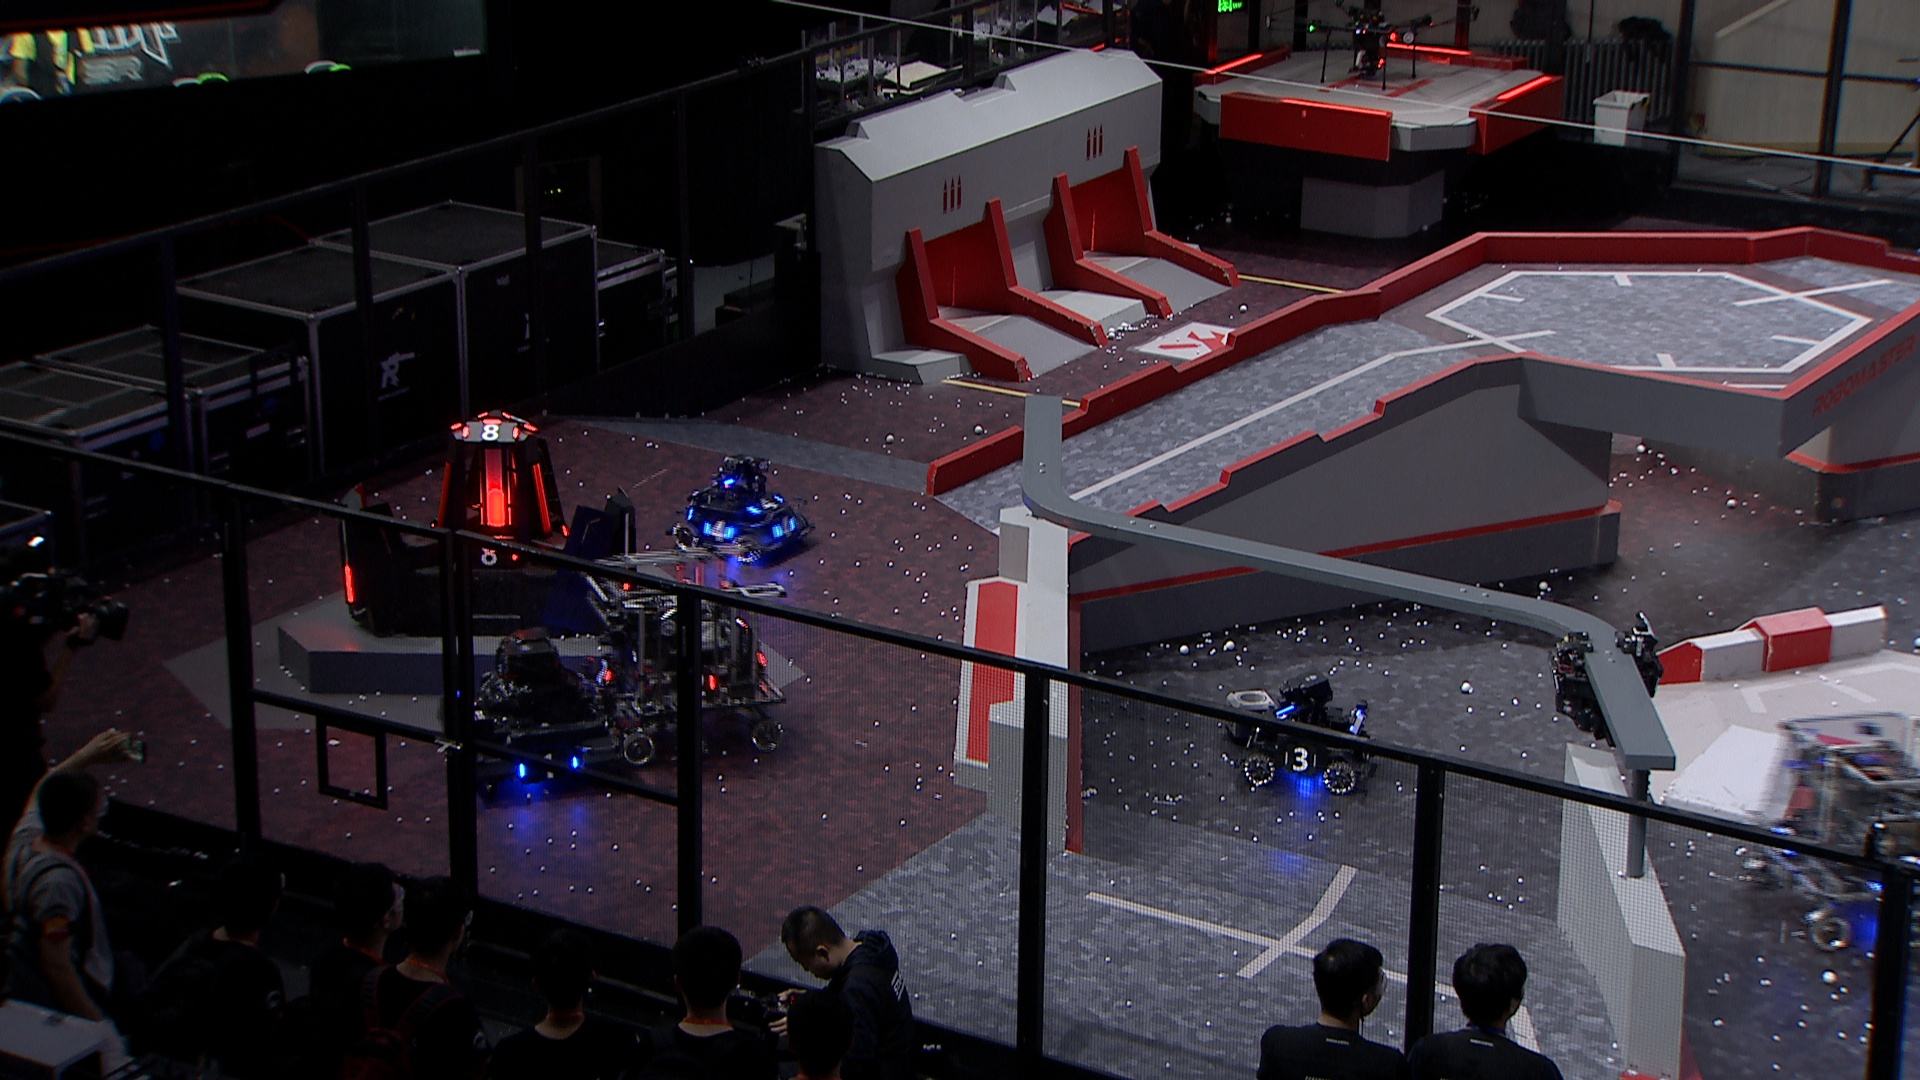armor: (475, 460, 516, 529), (456, 534, 524, 574), (514, 749, 585, 785), (527, 458, 558, 533), (433, 454, 456, 527), (458, 418, 520, 443), (1280, 741, 1320, 773), (338, 560, 361, 607), (744, 489, 785, 516), (591, 655, 618, 690), (703, 520, 740, 545), (770, 514, 800, 538)
base: (328, 404, 641, 636)
car: (574, 545, 793, 770), (1737, 707, 1920, 956), (433, 624, 629, 800), (1245, 669, 1379, 796), (669, 448, 814, 560)
watcher: (1547, 611, 1662, 752)
